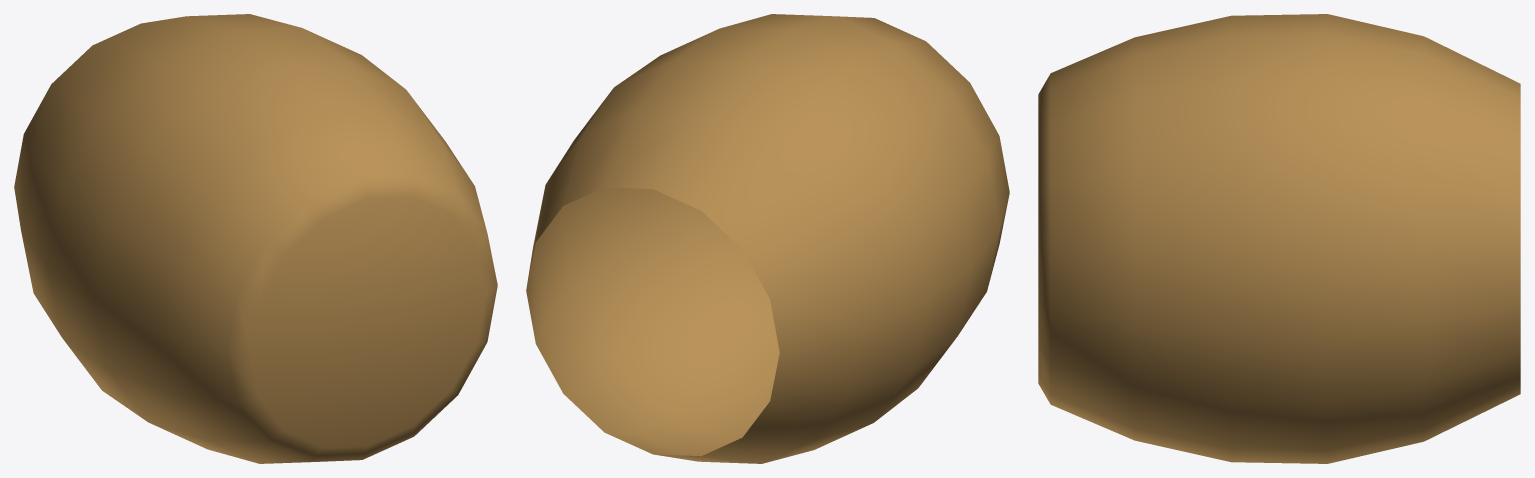
Rendered from SM_Obstacle_Barrel.fbx.
3 renders of one model, left to right at view 1: azimuth 30°, elevation 25°; view 2: azimuth 150°, elevation 25°; view 3: azimuth 270°, elevation 25°, orthographic. The views are drawn at different scales.
Parts seen in each view (by area): view 1: SM_Obstacle_Barrel; view 2: SM_Obstacle_Barrel; view 3: SM_Obstacle_Barrel.
Part boxes in pixels (x1,y1,x2,y2): SM_Obstacle_Barrel: [14, 14, 497, 463]; SM_Obstacle_Barrel: [526, 14, 1009, 463]; SM_Obstacle_Barrel: [1038, 14, 1520, 463].
Bounding box in the file's own units: 0.5939 × 0.5939 × 0.636.
